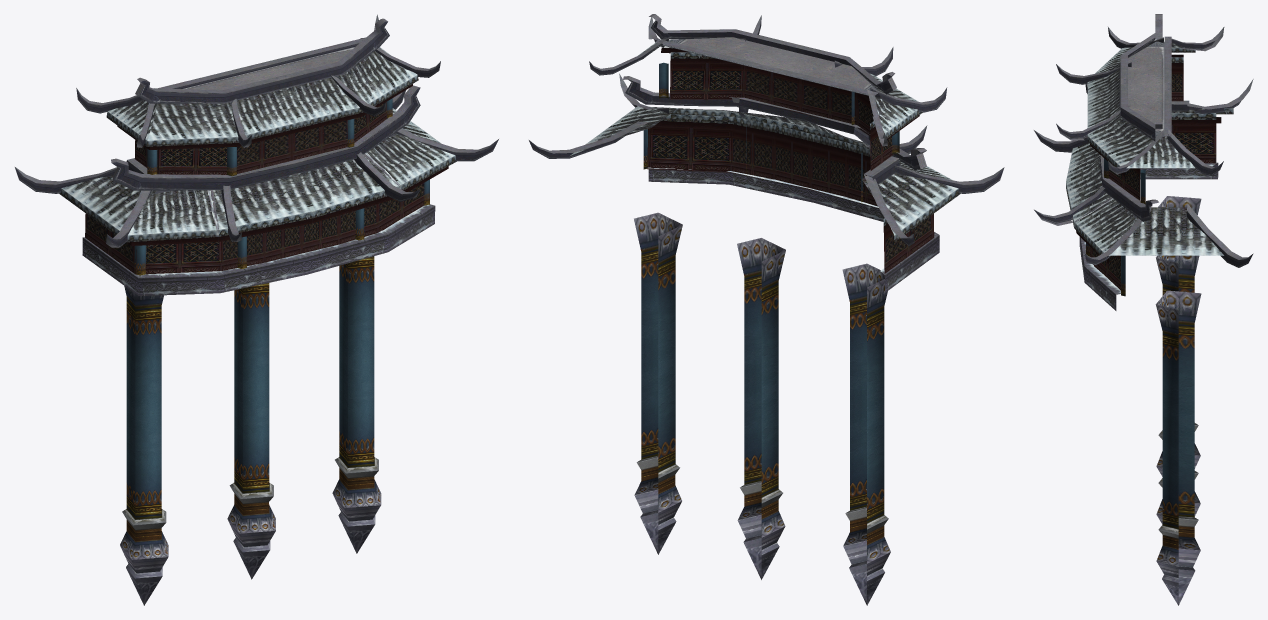
The model's file is yw_piaomiaofeng_fujian02.FBX.
The picture shows the model from 3 angles, left to right: view 1: azimuth 30°, elevation 25°; view 2: azimuth 150°, elevation 25°; view 3: azimuth 270°, elevation 25°; orthographic projection. The views are drawn at different scales.
Visible parts, largest first — view 1: yw_piaomiaofeng_fujian02; view 2: yw_piaomiaofeng_fujian02; view 3: yw_piaomiaofeng_fujian02.
Part boxes in pixels (left/top/right/bottom): yw_piaomiaofeng_fujian02: left=15, top=14, right=498, bottom=605; yw_piaomiaofeng_fujian02: left=529, top=14, right=1004, bottom=605; yw_piaomiaofeng_fujian02: left=1034, top=14, right=1253, bottom=605.
Bounding box in the file's own units: 885 × 1159 × 471.
